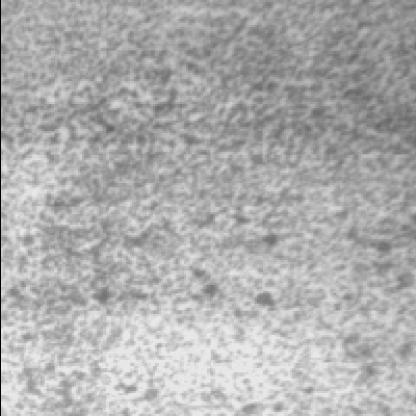pitted_surface: (4, 4, 408, 410)
